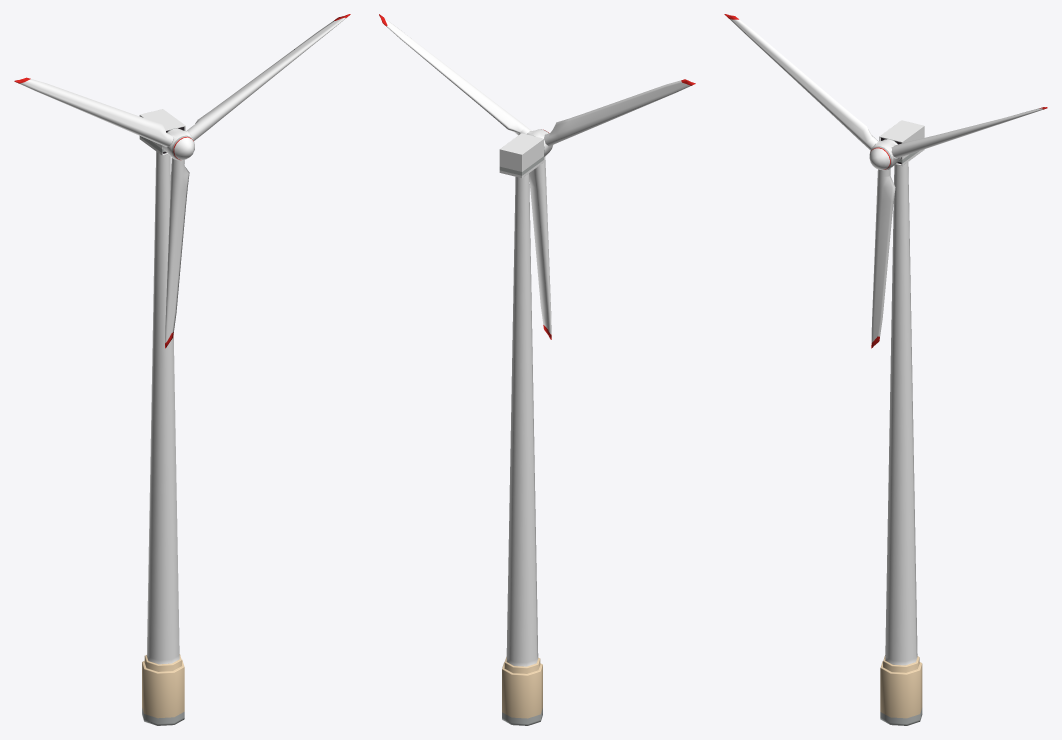
File: Eolic.glb
3 renders of one model, left to right at view 1: azimuth 30°, elevation 25°; view 2: azimuth 150°, elevation 25°; view 3: azimuth 330°, elevation 25°, orthographic. The views are drawn at different scales.
Parts seen in each view (by area): view 1: Cylinder.003, Cylinder, Cube; view 2: Cylinder.003, Cylinder, Cube; view 3: Cylinder.003, Cylinder, Cube.
Boxes of the visible parts, <box> form: Cylinder.003: <box>142,151,184,725</box>; Cylinder: <box>14,14,350,348</box>; Cube: <box>139,109,185,155</box>; Cylinder.003: <box>502,173,542,725</box>; Cylinder: <box>379,14,695,339</box>; Cube: <box>499,133,543,177</box>; Cylinder.003: <box>880,162,922,725</box>; Cylinder: <box>724,14,1047,348</box>; Cube: <box>879,120,924,165</box>.
Size of the model in its own units: 16.69 by 32.99 by 3.33.
Materials: 1 (1 with a texture image).
